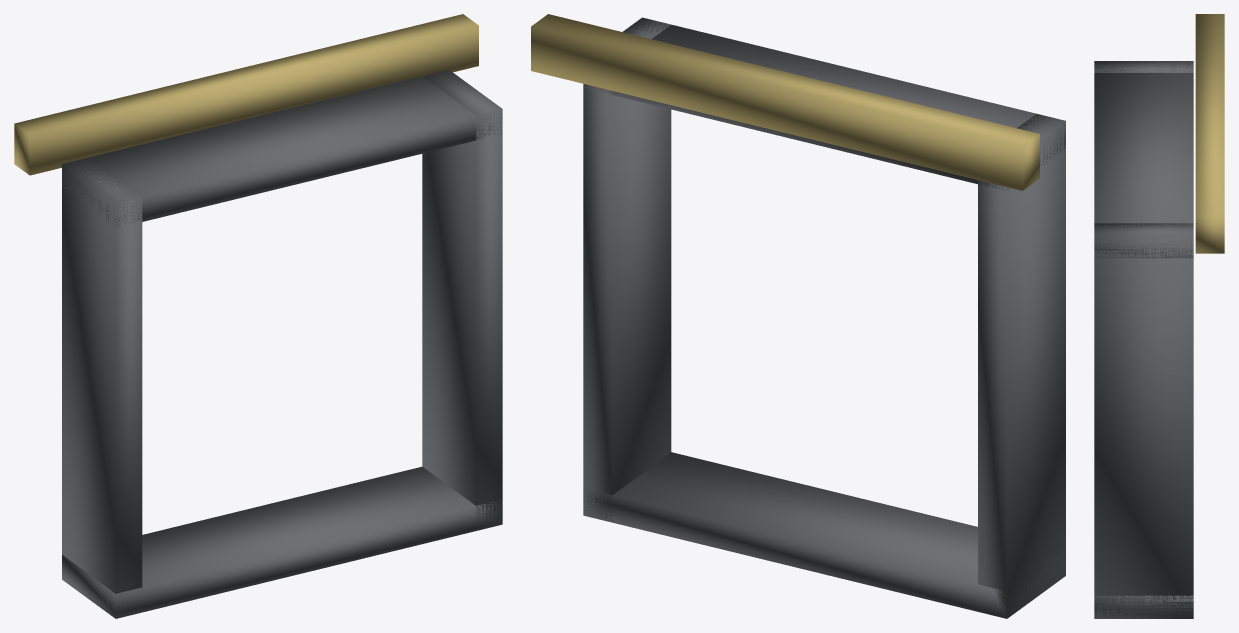
The model's file is egress_window_motel_w86_h90_s55_d24.glb.
3 views of the same model, side by side, from view 1: azimuth 30°, elevation 25°; view 2: azimuth 150°, elevation 25°; view 3: azimuth 270°, elevation 25° (orthographic). The views are drawn at different scales.
Parts seen in each view (by area): view 1: world; view 2: world; view 3: world.
Part boxes in pixels (bbox=[...]): world: bbox=[14, 14, 502, 618]; world: bbox=[531, 14, 1065, 618]; world: bbox=[1094, 14, 1224, 618].
Size of the model in its own units: 1.16 by 1.11 by 0.315.
